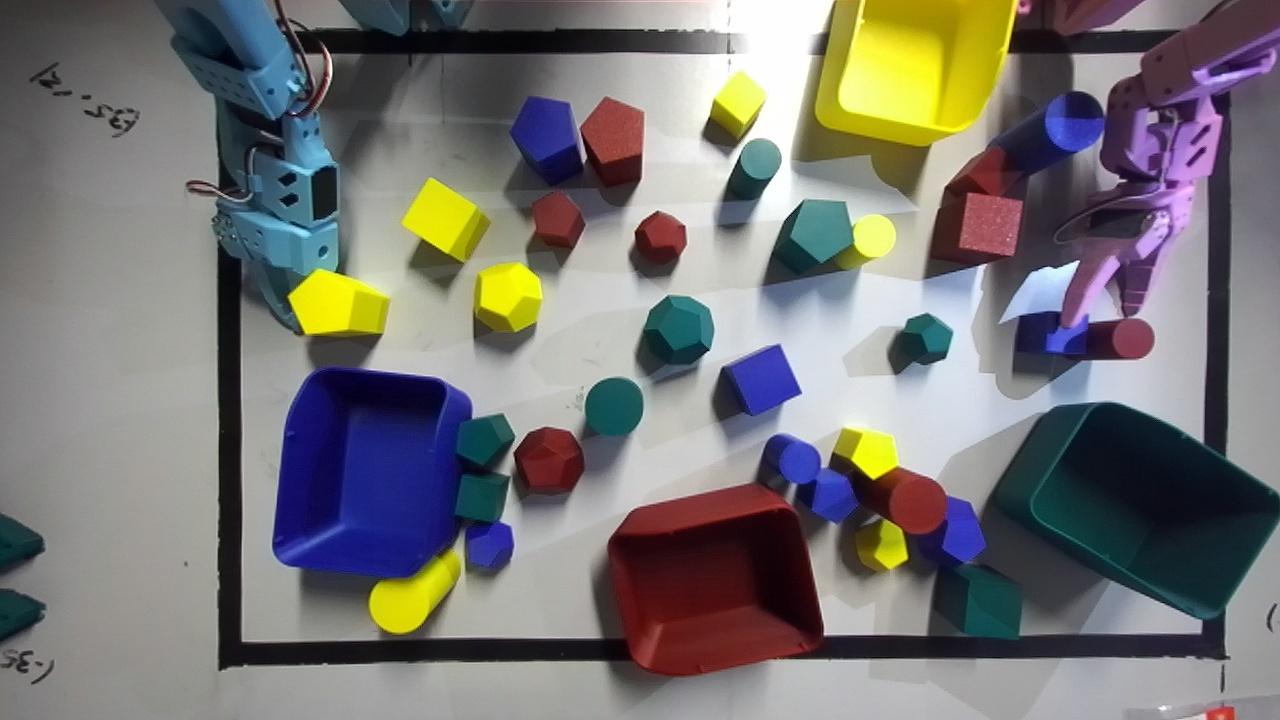bin: (991, 403, 1279, 620), (272, 367, 471, 576), (608, 483, 822, 675), (815, 0, 1015, 145)
cube: (401, 178, 489, 262), (932, 564, 1021, 638), (931, 193, 1022, 260), (721, 344, 802, 415), (945, 146, 1021, 195), (710, 72, 765, 138), (1015, 312, 1087, 355), (454, 472, 509, 522)
cylinder: (991, 91, 1104, 174), (368, 549, 460, 634), (857, 466, 946, 534), (585, 377, 643, 435), (835, 215, 895, 269), (727, 139, 781, 199), (762, 434, 820, 484), (1087, 318, 1154, 359)
dodecahedron: (644, 295, 713, 363), (514, 427, 584, 493), (474, 263, 541, 331), (919, 497, 985, 565), (854, 519, 908, 571), (901, 313, 952, 367), (635, 211, 686, 263), (465, 521, 513, 572)
hexagonal: (287, 269, 388, 335), (510, 96, 583, 184), (772, 199, 852, 272), (580, 97, 643, 188), (832, 427, 897, 479), (797, 468, 857, 522), (456, 413, 514, 466), (531, 191, 584, 247)
